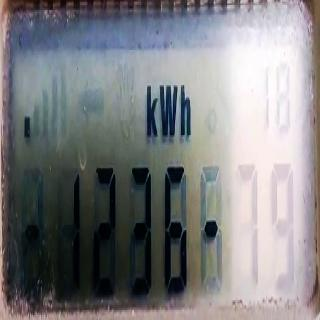-: (25, 214, 40, 247), (205, 217, 218, 243), (23, 114, 31, 143)
1: (68, 164, 85, 298)
2: (90, 161, 117, 303)
3: (126, 155, 154, 307)
6: (160, 158, 191, 307)
7: (235, 152, 264, 290)
9: (268, 153, 297, 300)
